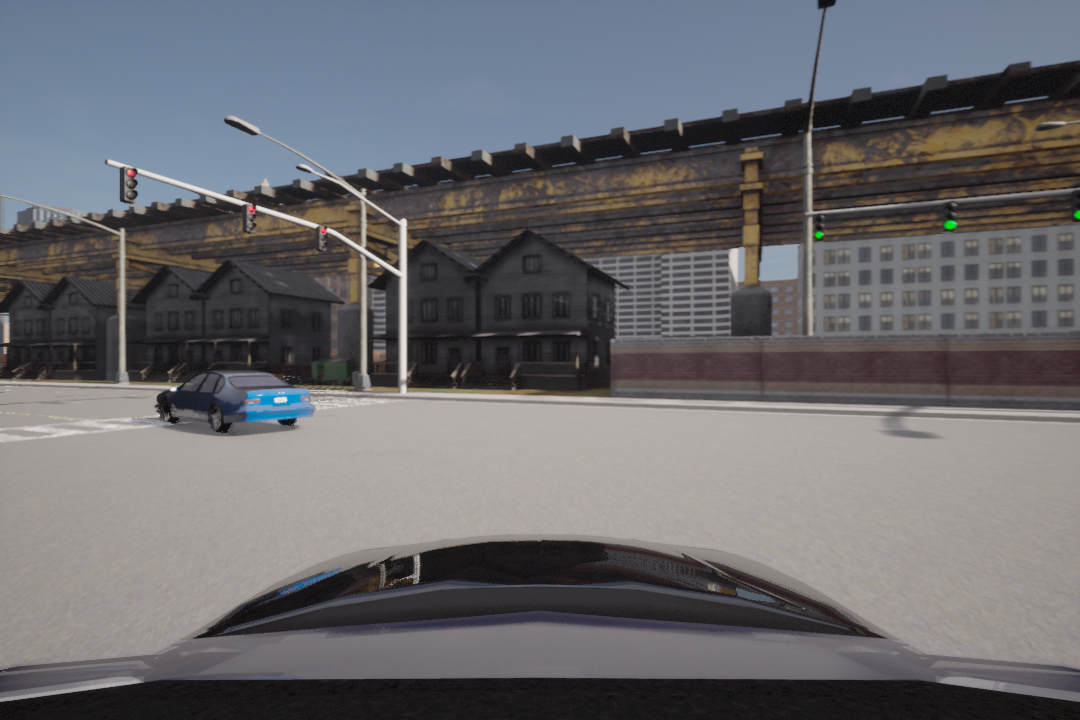TrafficLight: (120, 167, 139, 206), (941, 201, 959, 234), (241, 203, 257, 235), (811, 212, 826, 243), (314, 225, 330, 253)
